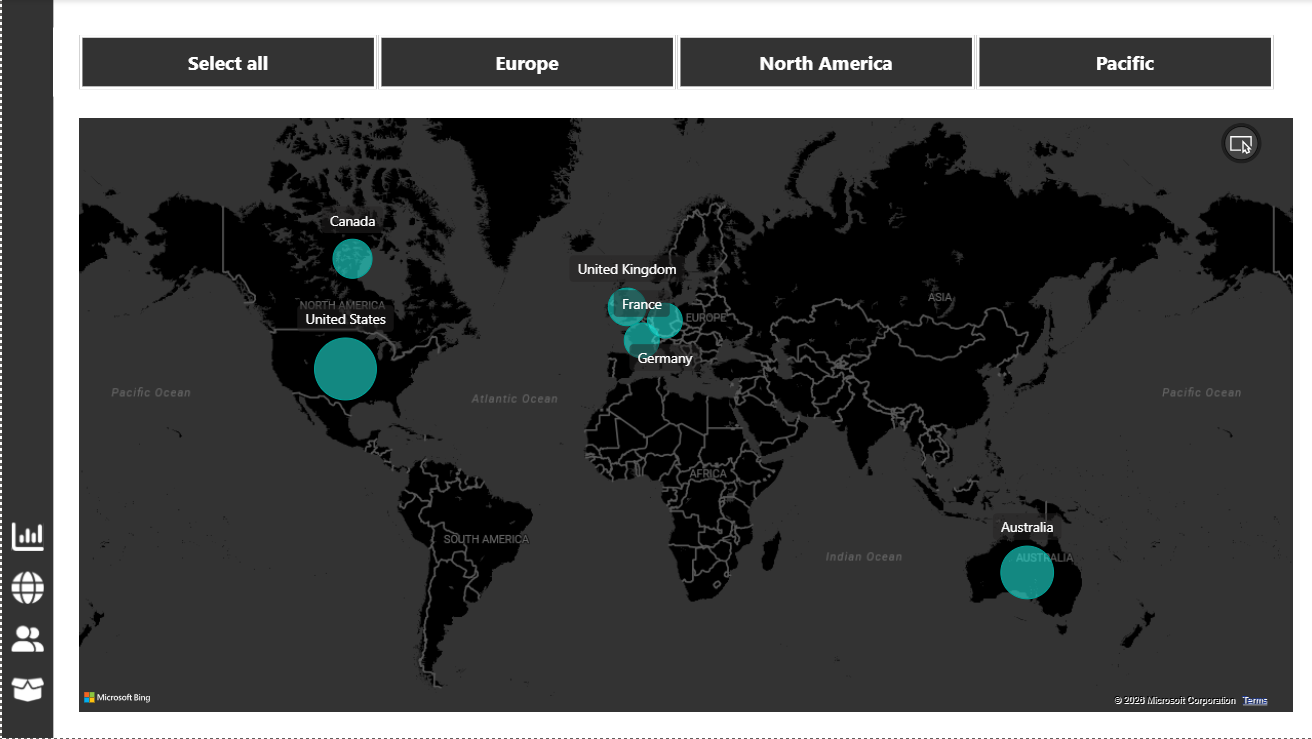

This screenshot's page, from the dashboard's own definition file:
{"tool":"powerbi","page":{"name":"Map","canvas":[1280,720],"ordinal":1},"visuals":[{"type":"shape","box":[0,0,50,720.6],"z":0},{"type":"actionButton","box":[0,504.2,49.7,39.5],"z":0,"group":"g1"},{"type":"map","fields":{"Category":["Territory Lookup.Country"],"Size":["Measure Table.Total Orders"]},"box":[70.2,111.1,1192.6,589],"z":1000},{"type":"actionButton","box":[0,603.6,49.7,39.5],"z":1000,"group":"g1"},{"type":"slicer","fields":{"Values":["Territory Lookup.Continent"]},"box":[49.7,27.8,1213,67.2],"z":2000},{"type":"actionButton","box":[0,653.3,49.7,39.5],"z":2000,"group":"g1"},{"type":"group","id":"g1","title":"Nav Button","box":[0,504.2,49.7,188.5],"z":3000},{"type":"actionButton","box":[0,553.9,49.7,39.5],"z":3000,"group":"g1"}]}

Visuals, with their boxes on the page's 1280x720 design canvas (x1, y1, x2, y2). These are canvas units, not pixel positions in the 1312x739 screenshot, which may show the page scaled, cropped or inside an application window:
shape: 0, 0, 50, 721
actionButton: 0, 504, 50, 544
map - Territory Lookup.Country x Measure Table.Total Orders: 70, 111, 1263, 700
actionButton: 0, 604, 50, 643
slicer - Territory Lookup.Continent: 50, 28, 1263, 95
actionButton: 0, 653, 50, 693
"Nav Button" group: 0, 504, 50, 693
actionButton: 0, 554, 50, 593
